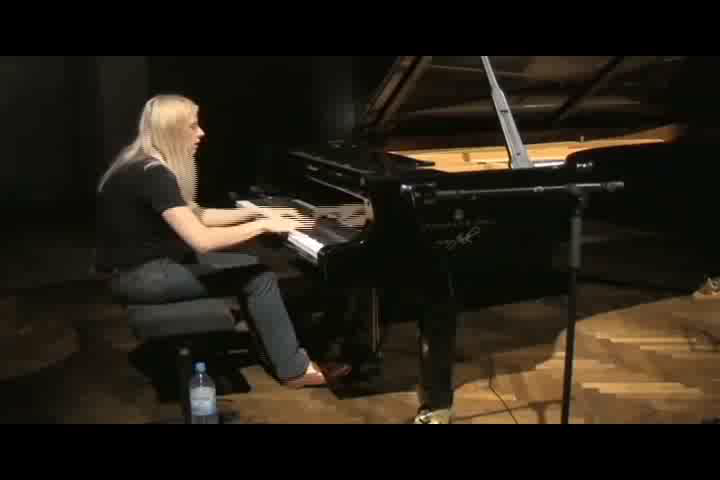keyboard: (233, 190, 369, 273)
